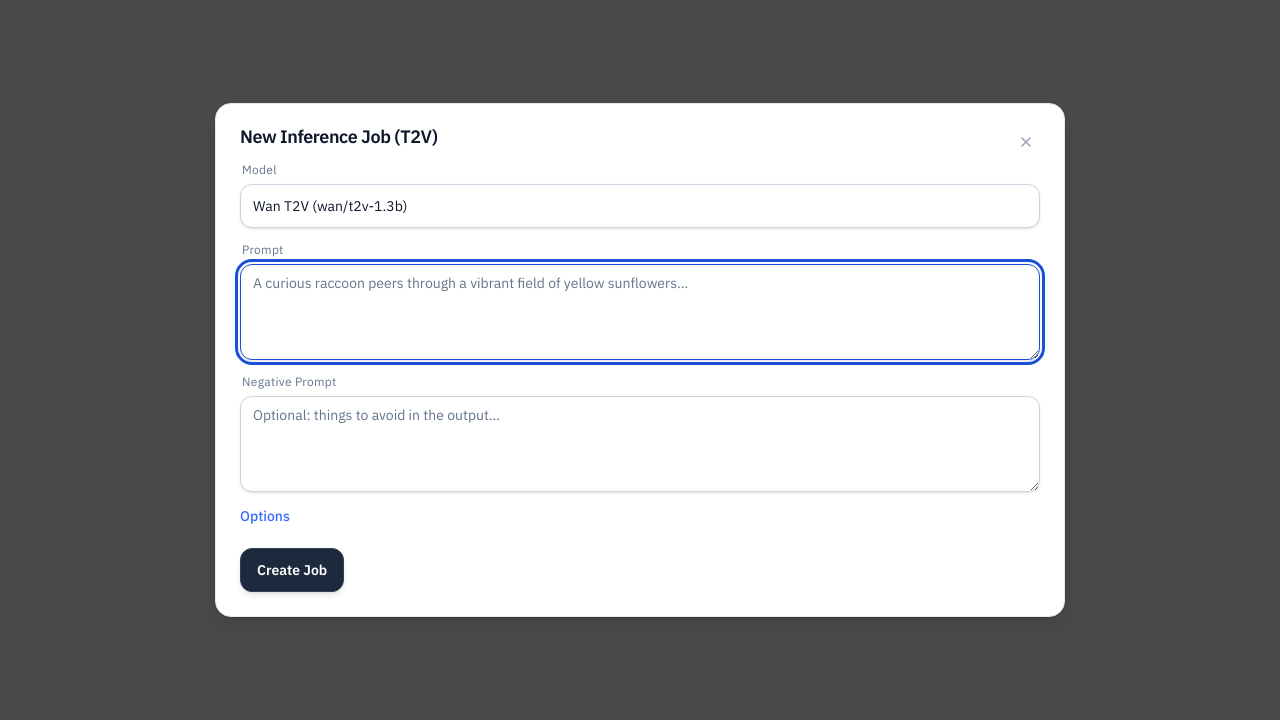
Test case: CreateJobModal › keeps the form open and reports job creation failures
The image size is (1280, 720).
Type "a careful test prompt" into the text box labelled "Prompt" at (640, 312), box [240,264,1040,360]
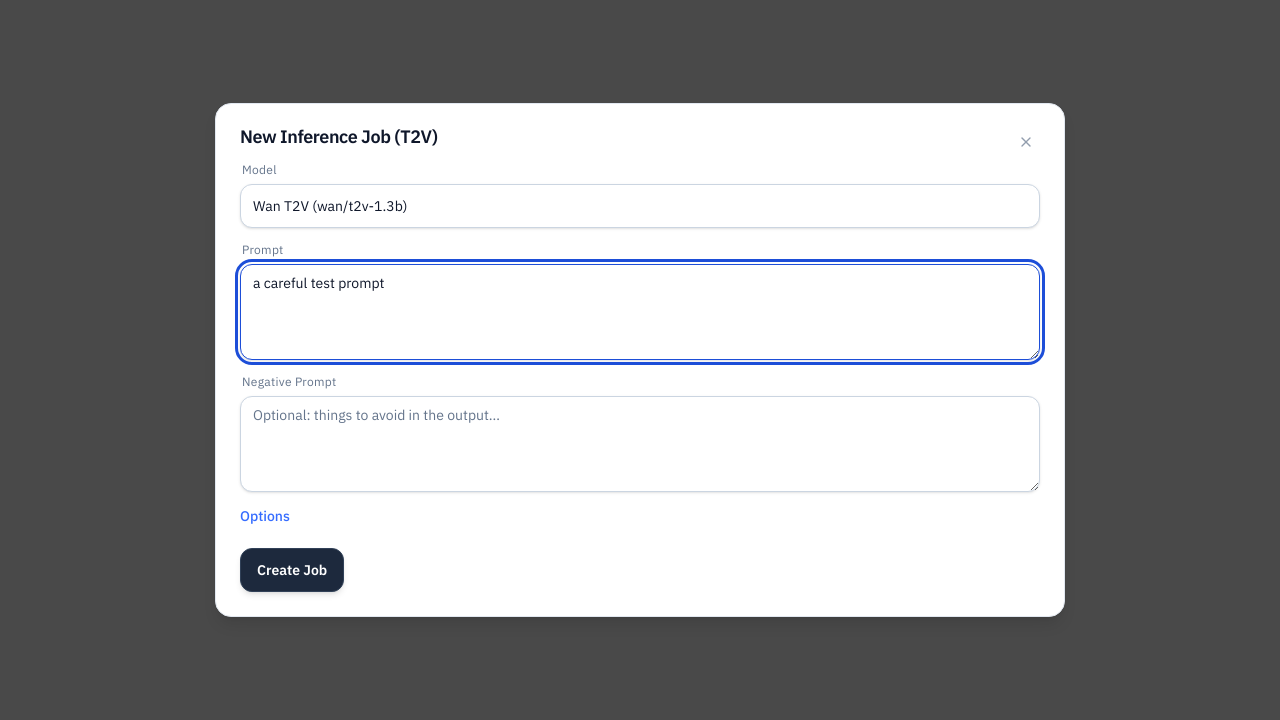
Click the button "Create Job" at (292, 570), box [240,548,344,592]
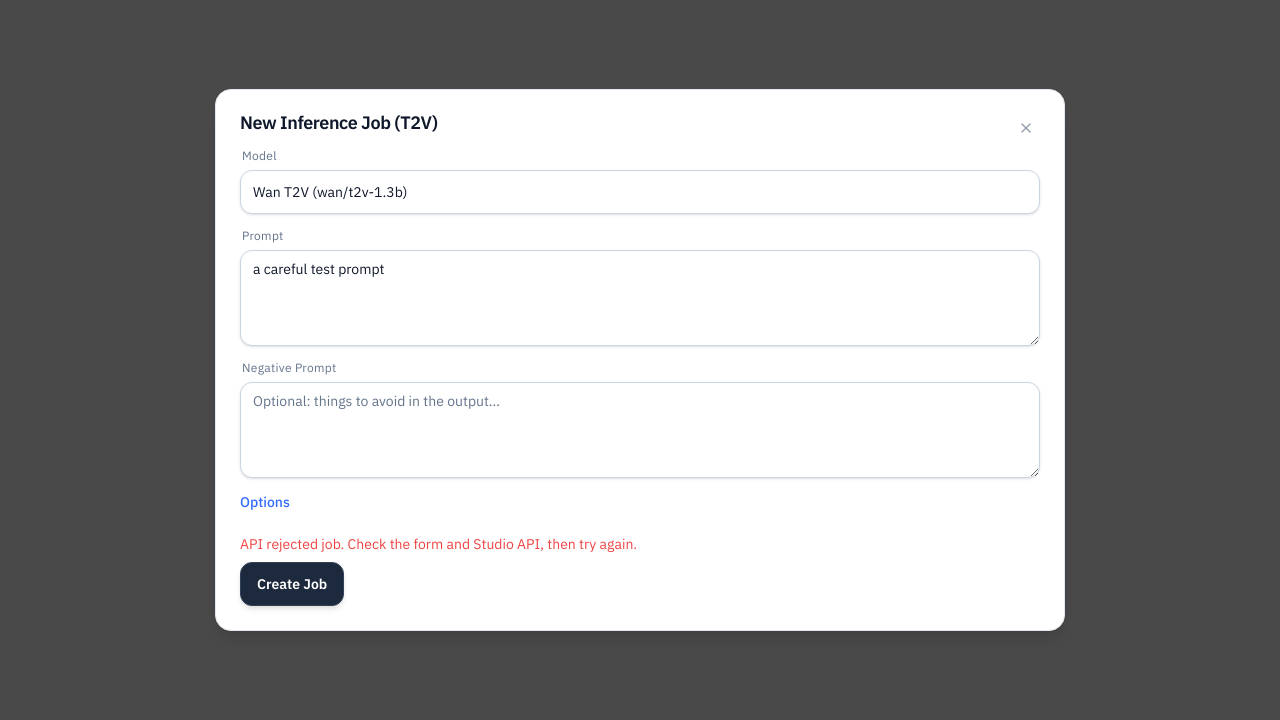
Now the text "API rejected job. Check the form and Studio API, then try again." is shown, box [240,534,637,554]
